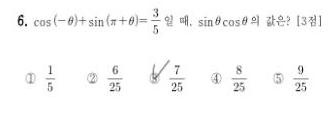choice: (147, 66, 162, 86)
not-choice: (270, 71, 284, 86), (209, 71, 223, 85), (85, 71, 98, 85), (24, 72, 37, 84)
